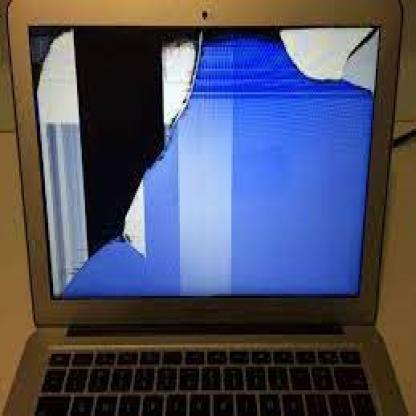crack: (26, 23, 212, 306), (271, 26, 384, 101)
lines: (188, 36, 355, 98)
